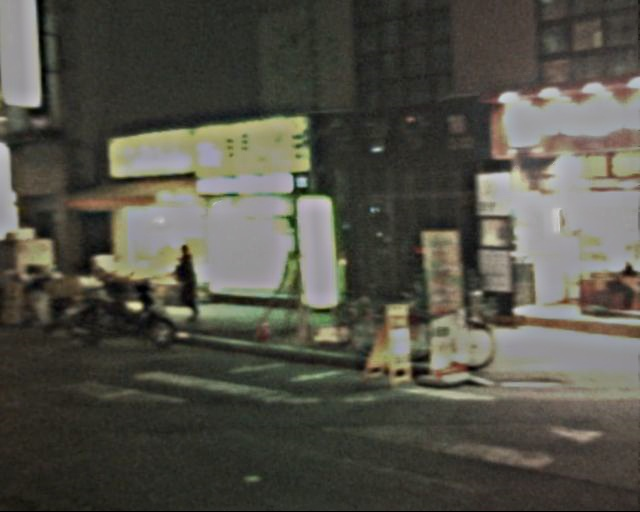person: (158, 239, 203, 321)
